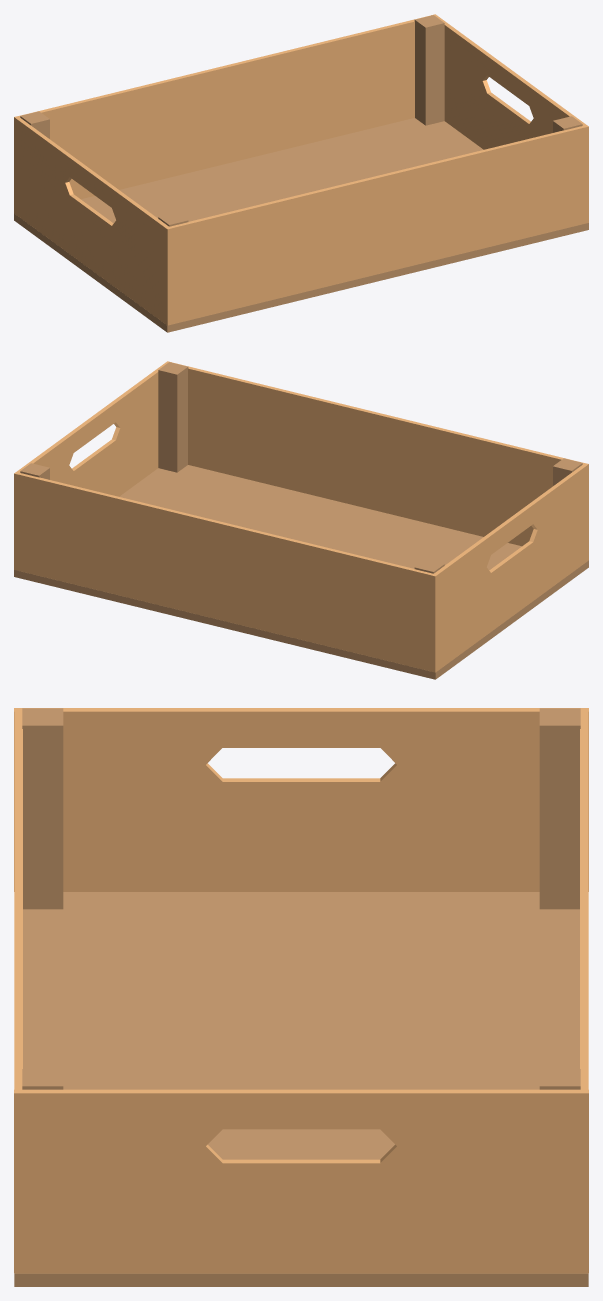
3 views of the same model, one above another, from view 1: azimuth 30°, elevation 25°; view 2: azimuth 150°, elevation 25°; view 3: azimuth 270°, elevation 25° (orthographic). The views are drawn at different scales.
Parts seen in each view (by area): view 1: crates.008; view 2: crates.008; view 3: crates.008.
Boxes of the visible parts, x1,y1,x2,y2 form: crates.008: (14,14,588,332); crates.008: (14,361,588,679); crates.008: (14,708,588,1286).
Bounding box in the file's own units: 317 × 75.66 × 200.
